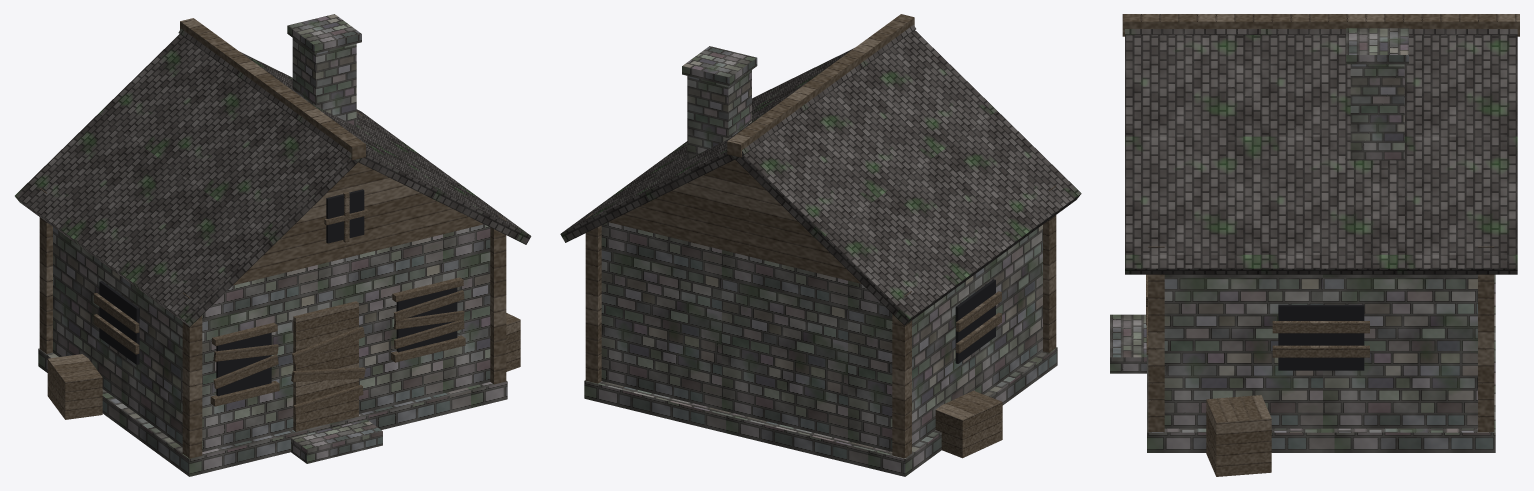
File: VillageHouse.obj
3 renders of one model, left to right at view 1: azimuth 30°, elevation 25°; view 2: azimuth 150°, elevation 25°; view 3: azimuth 270°, elevation 25°, orthographic. The views are drawn at different scales.
Parts seen in each view (by area): view 1: VillageHouse; view 2: VillageHouse; view 3: VillageHouse.
Part boxes in pixels (bbox=[...]): VillageHouse: bbox=[15, 14, 531, 476]; VillageHouse: bbox=[560, 14, 1081, 476]; VillageHouse: bbox=[1110, 14, 1519, 476].
Size of the model in its own units: 7.03 by 5.37 by 5.47.
4 materials, 3 textured.
